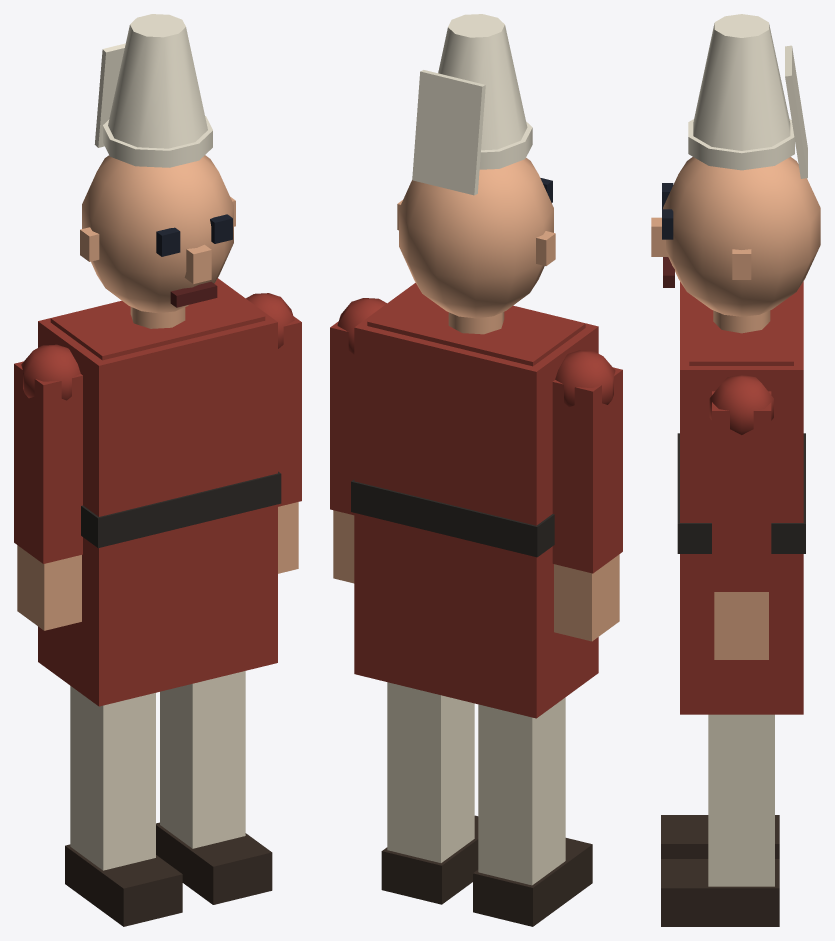
Rendered from janissary.glb.
3 views of the same model, side by side, from view 1: azimuth 30°, elevation 25°; view 2: azimuth 150°, elevation 25°; view 3: azimuth 270°, elevation 25° (orthographic).
Visible parts, largest first — view 1: Body, LegR, LegL, Head, ArmR, Hat, ArmL, Mouth; view 2: Body, LegR, ArmR, Head, LegL, Hat, ArmL; view 3: Body, Head, LegL, ArmL, Hat, LegR.
Boxes of the visible parts, box(x1,y1,x2,y2) form: Body: box(38, 278, 281, 706); LegR: box(65, 686, 182, 926); LegL: box(156, 671, 272, 904); Head: box(80, 155, 235, 313); ArmR: box(14, 344, 82, 630); Hat: box(94, 14, 212, 167); ArmL: box(246, 293, 301, 573); Mouth: box(170, 281, 217, 307); Body: box(351, 283, 598, 718); LegR: box(473, 697, 592, 926); ArmR: box(552, 350, 622, 641); Head: box(397, 158, 555, 318); LegL: box(381, 682, 478, 904); Hat: box(412, 14, 532, 195); ArmL: box(330, 298, 386, 583); Body: box(677, 281, 805, 714); Head: box(651, 157, 820, 316); LegL: box(661, 714, 779, 926); ArmL: box(709, 375, 773, 659); Hat: box(688, 14, 807, 178); LegR: box(661, 815, 779, 858).
Size of the model in its own units: 0.6556 by 2.01 by 0.3557.
